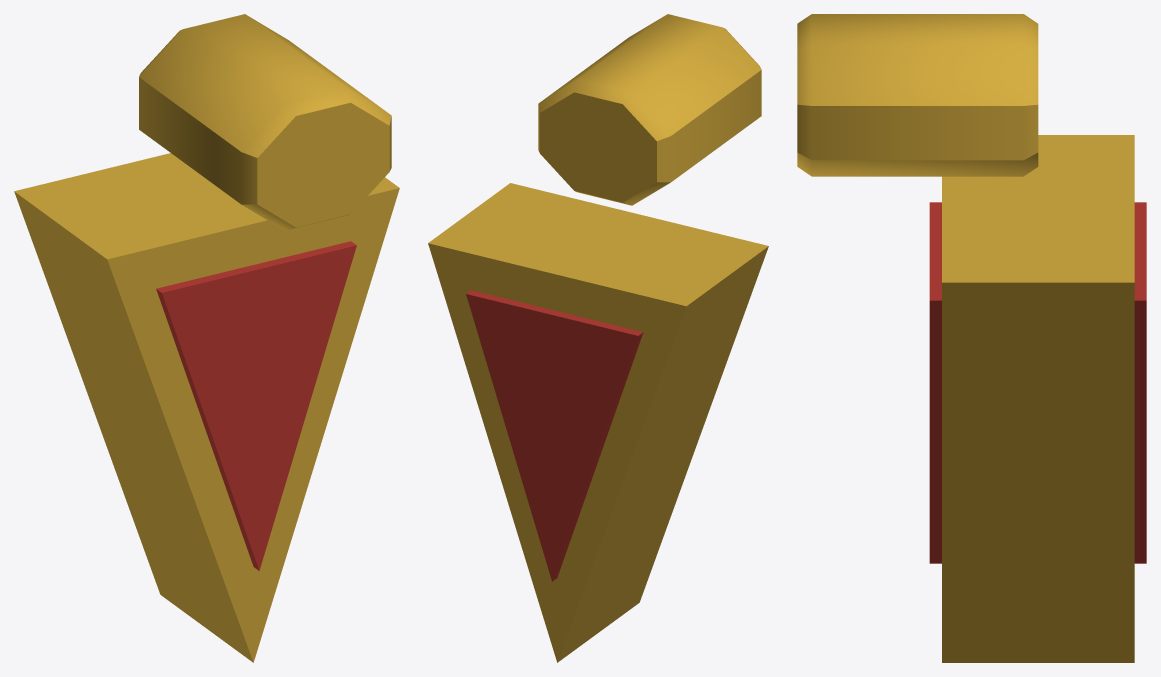
File: 406_piece_roue_pointeur.fbx
3 renders of one model, left to right at view 1: azimuth 30°, elevation 25°; view 2: azimuth 150°, elevation 25°; view 3: azimuth 270°, elevation 25°, orthographic. The views are drawn at different scales.
Parts seen in each view (by area): view 1: Pointeur; view 2: Pointeur; view 3: Pointeur.
Part boxes in pixels (left/top/right/bottom): Pointeur: left=14, top=14, right=399, bottom=662; Pointeur: left=428, top=14, right=768, bottom=662; Pointeur: left=797, top=14, right=1146, bottom=662.
Size of the model in its own units: 0.28 by 0.56 by 0.28.
Materials: 1 (1 with a texture image).
